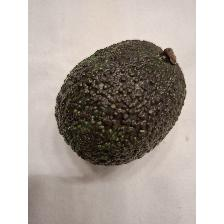Avocado: (54, 36, 190, 170)
